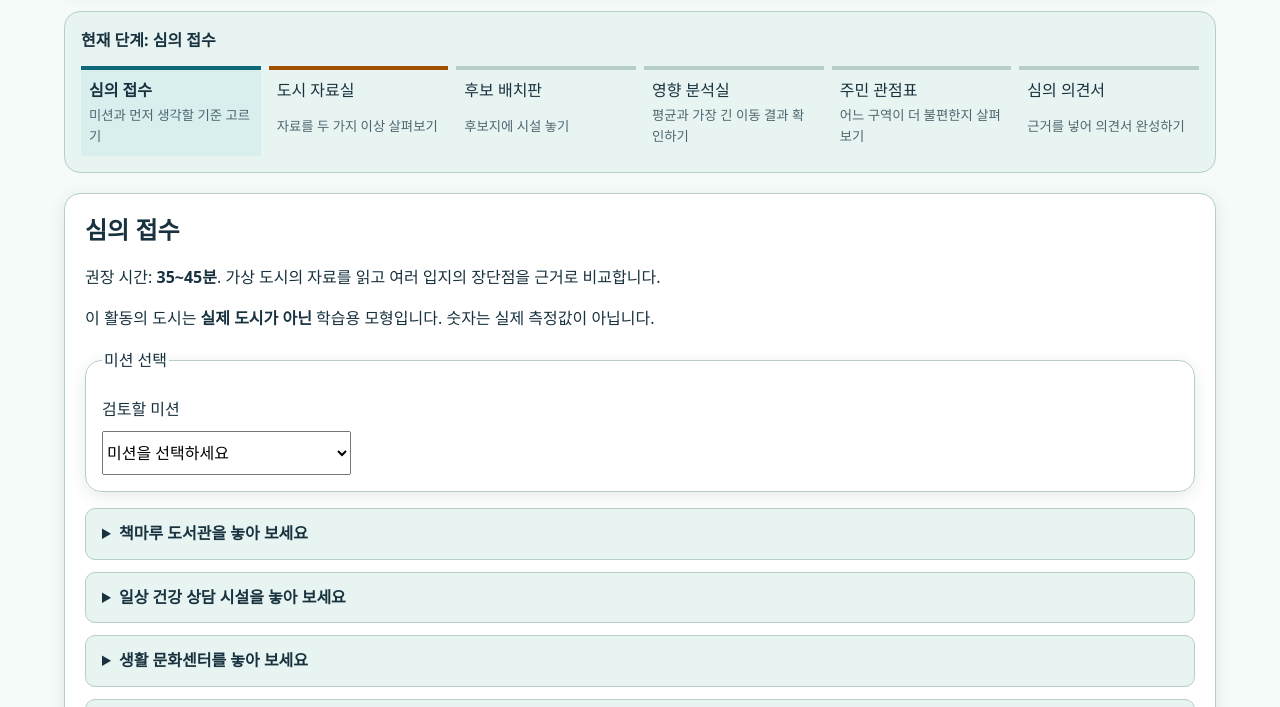
Test: CityDataRoom › provides a labeled keyboard grid with a single active descendant
Select "책마루 도서관을 놓아 보세요" in the dropdown named "미션 선택" at (226, 453), box 102,431 -> 351,475
(page scrolled)
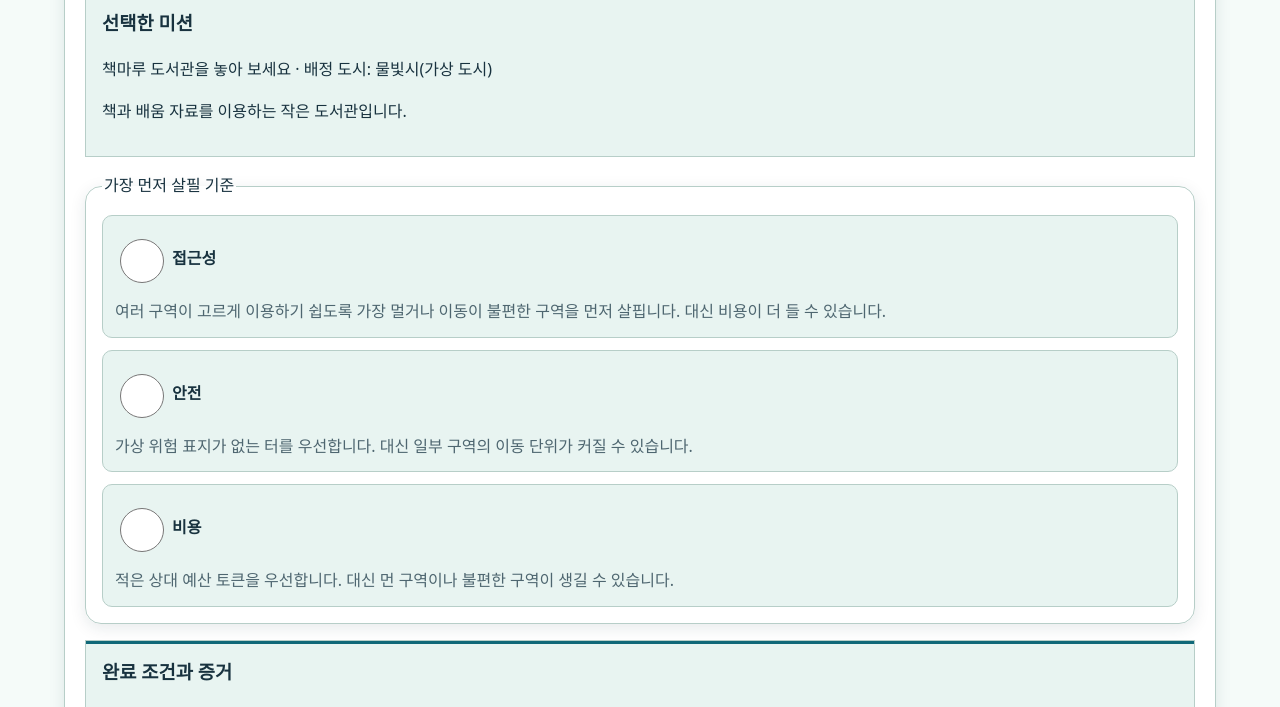
Click the radio button labelled "접근성" at (142, 261), box 120,239 -> 164,283
(page scrolled)
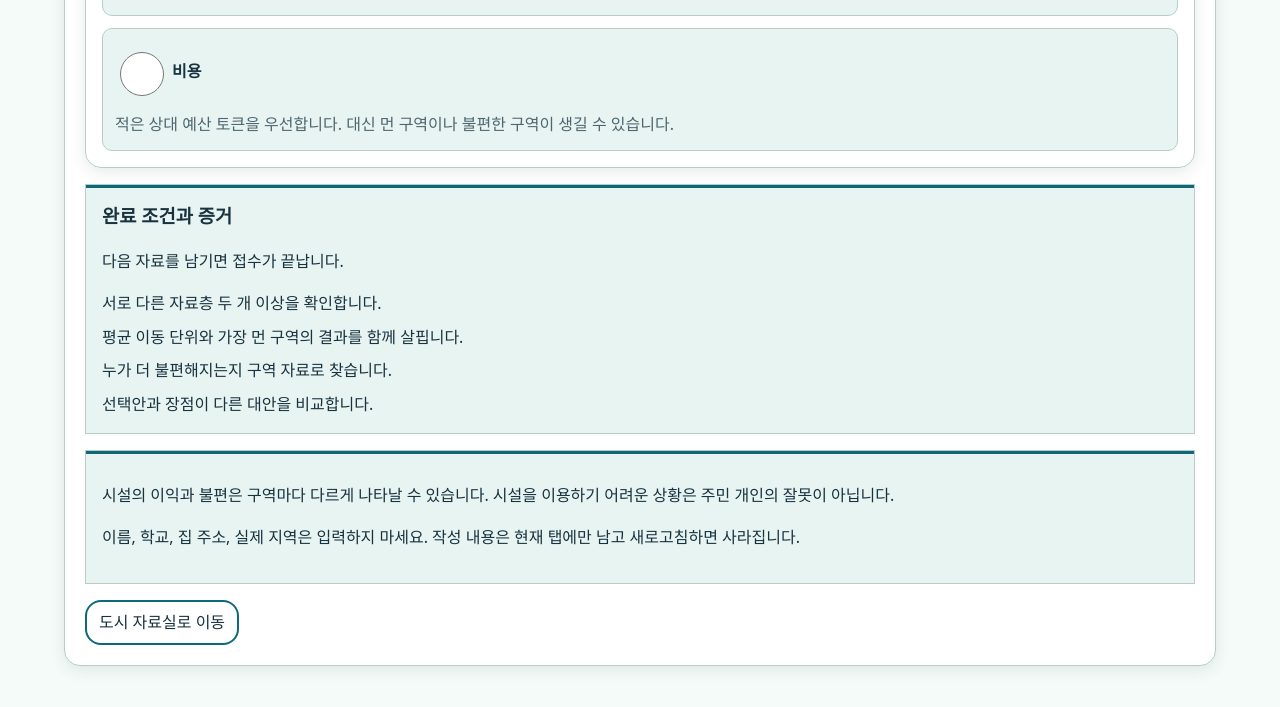
Click the button "도시 자료실로 이동" at (162, 622), box 85,600 -> 239,645
(page scrolled)
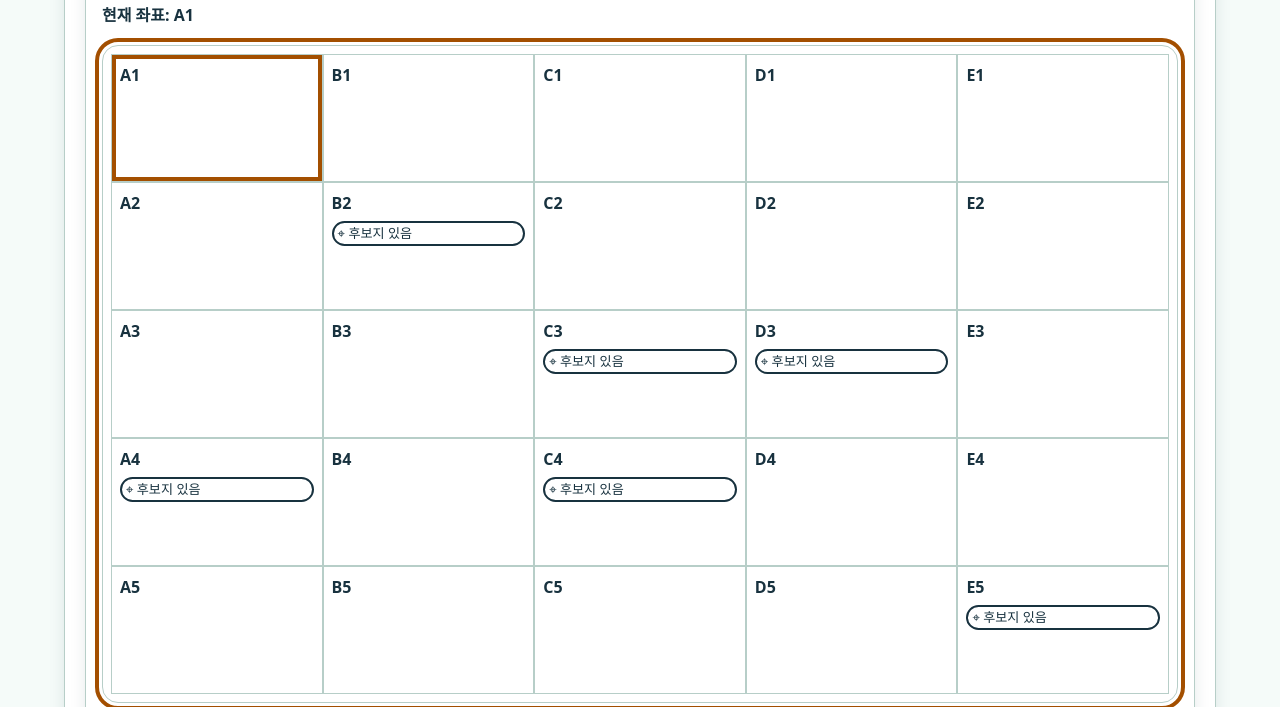
Result: the text "현재 좌표: A1" is shown at 102,4 -> 194,26
Press Arrowright Arrowdown
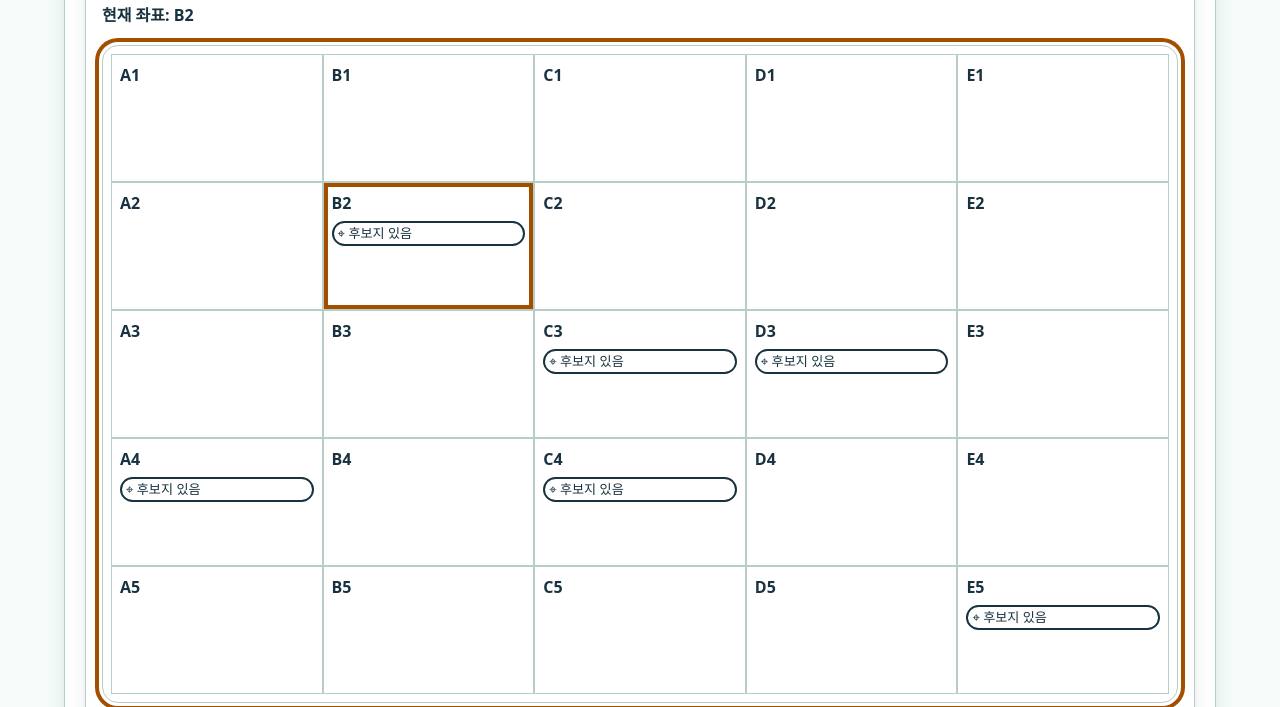
Result: the text "현재 좌표: B2" is shown at 102,4 -> 194,26
